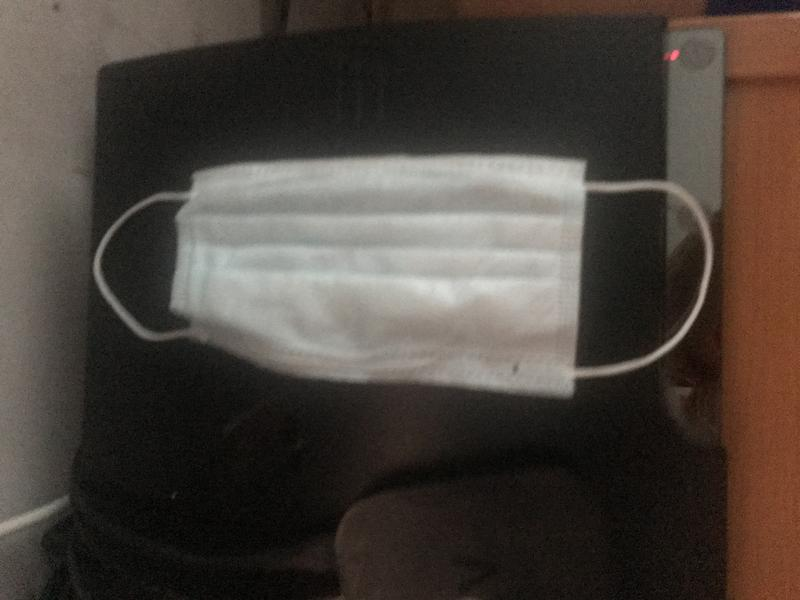medical_mask: (93, 157, 708, 397)
